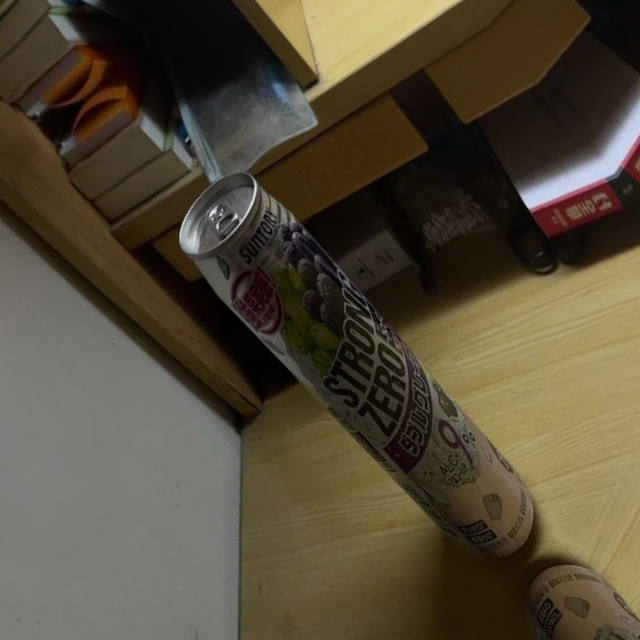Liquor: (156, 147, 560, 595)
